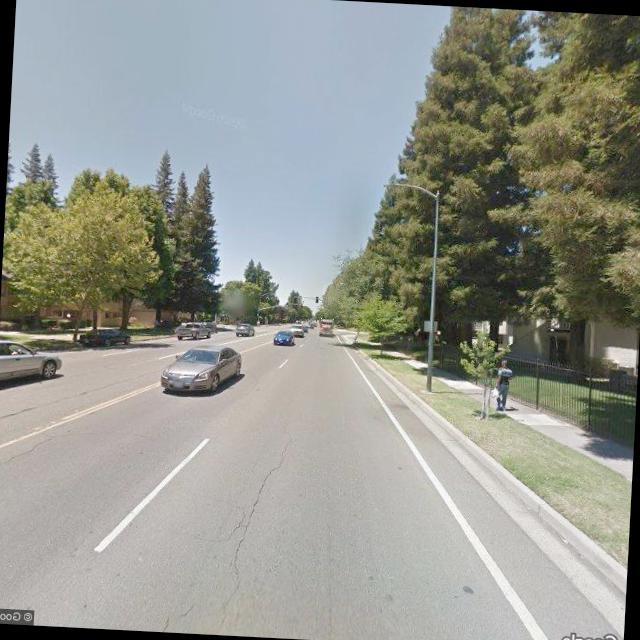crack: (212, 428, 293, 630), (0, 427, 59, 484)
